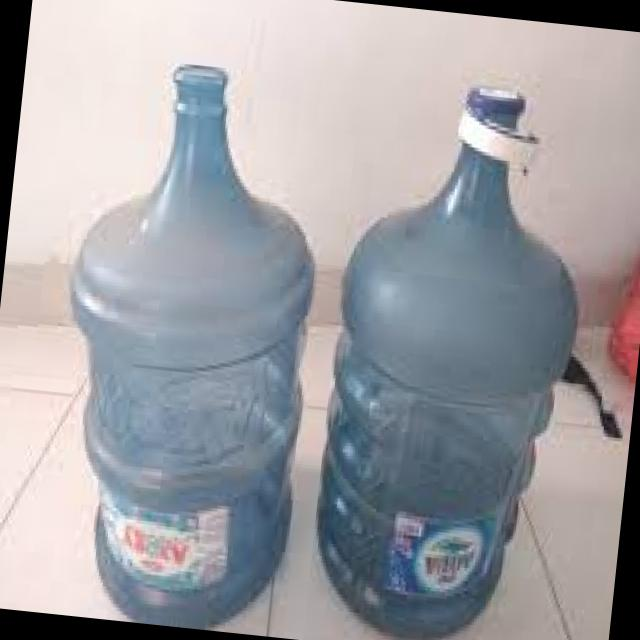Galon: (301, 69, 640, 640), (32, 47, 338, 634)
